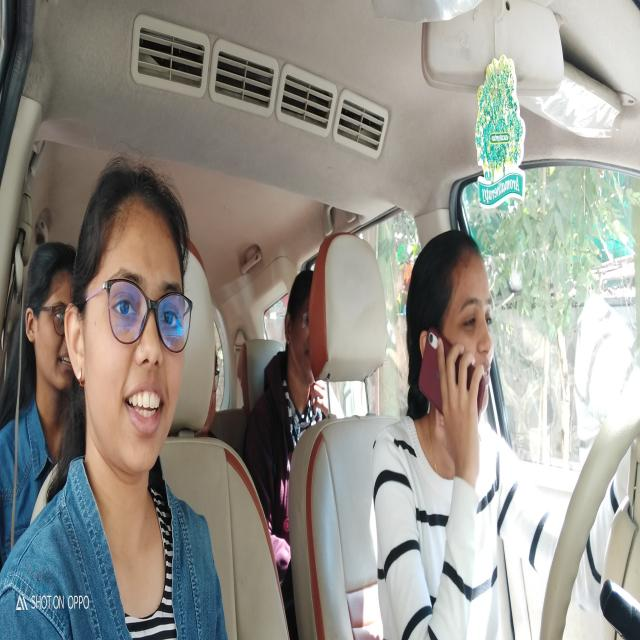mobile: (418, 322, 490, 430)
person: (69, 147, 197, 475), (402, 224, 504, 421), (22, 236, 77, 386), (282, 272, 325, 404)
